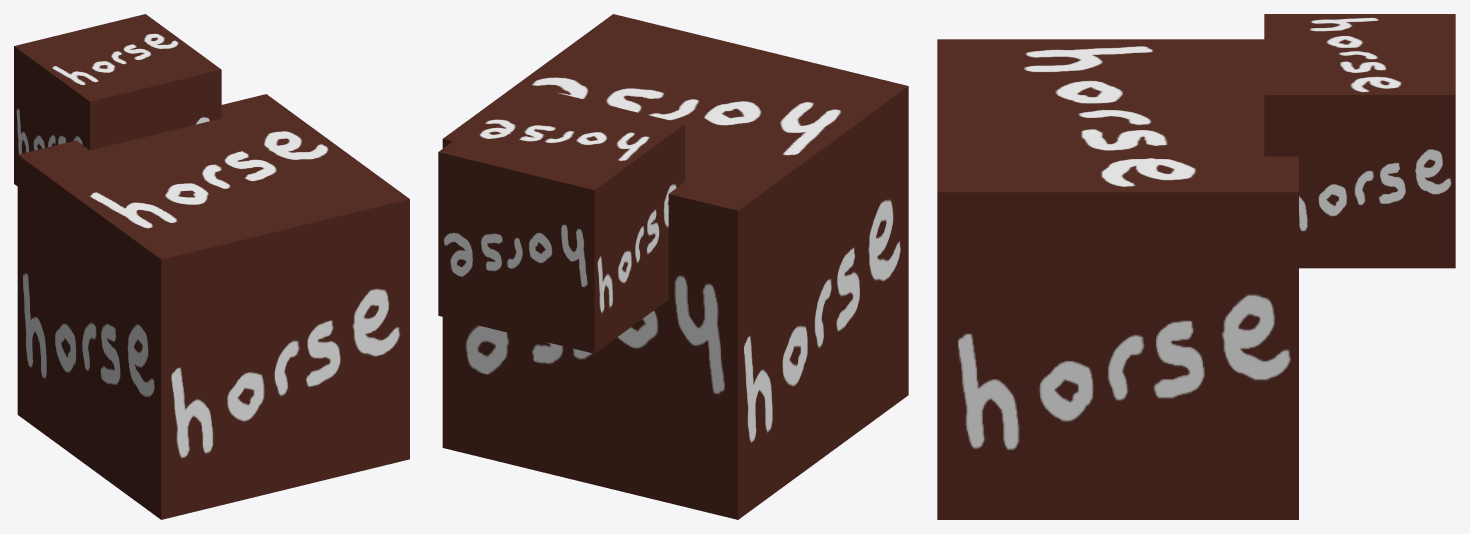
Rendered from central_horseplacholder.fbx.
3 renders of one model, left to right at view 1: azimuth 30°, elevation 25°; view 2: azimuth 150°, elevation 25°; view 3: azimuth 270°, elevation 25°, orthographic. The views are drawn at different scales.
Visible parts, largest first — view 1: horse1, pCube4; view 2: horse1, pCube4; view 3: horse1, pCube4.
Part boxes in pixels (<box>): horse1: <box>17,94,409,519</box>; pCube4: <box>14,14,221,186</box>; horse1: <box>442,14,908,519</box>; pCube4: <box>438,86,684,353</box>; horse1: <box>937,39,1298,519</box>; pCube4: <box>1264,14,1455,268</box>.
Bounding box in the file's own units: 1 × 1.19 × 1.43.
Materials: 1 (1 with a texture image).
